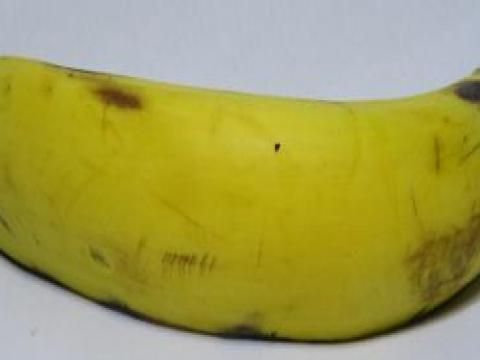freshripe: (0, 36, 479, 346)
